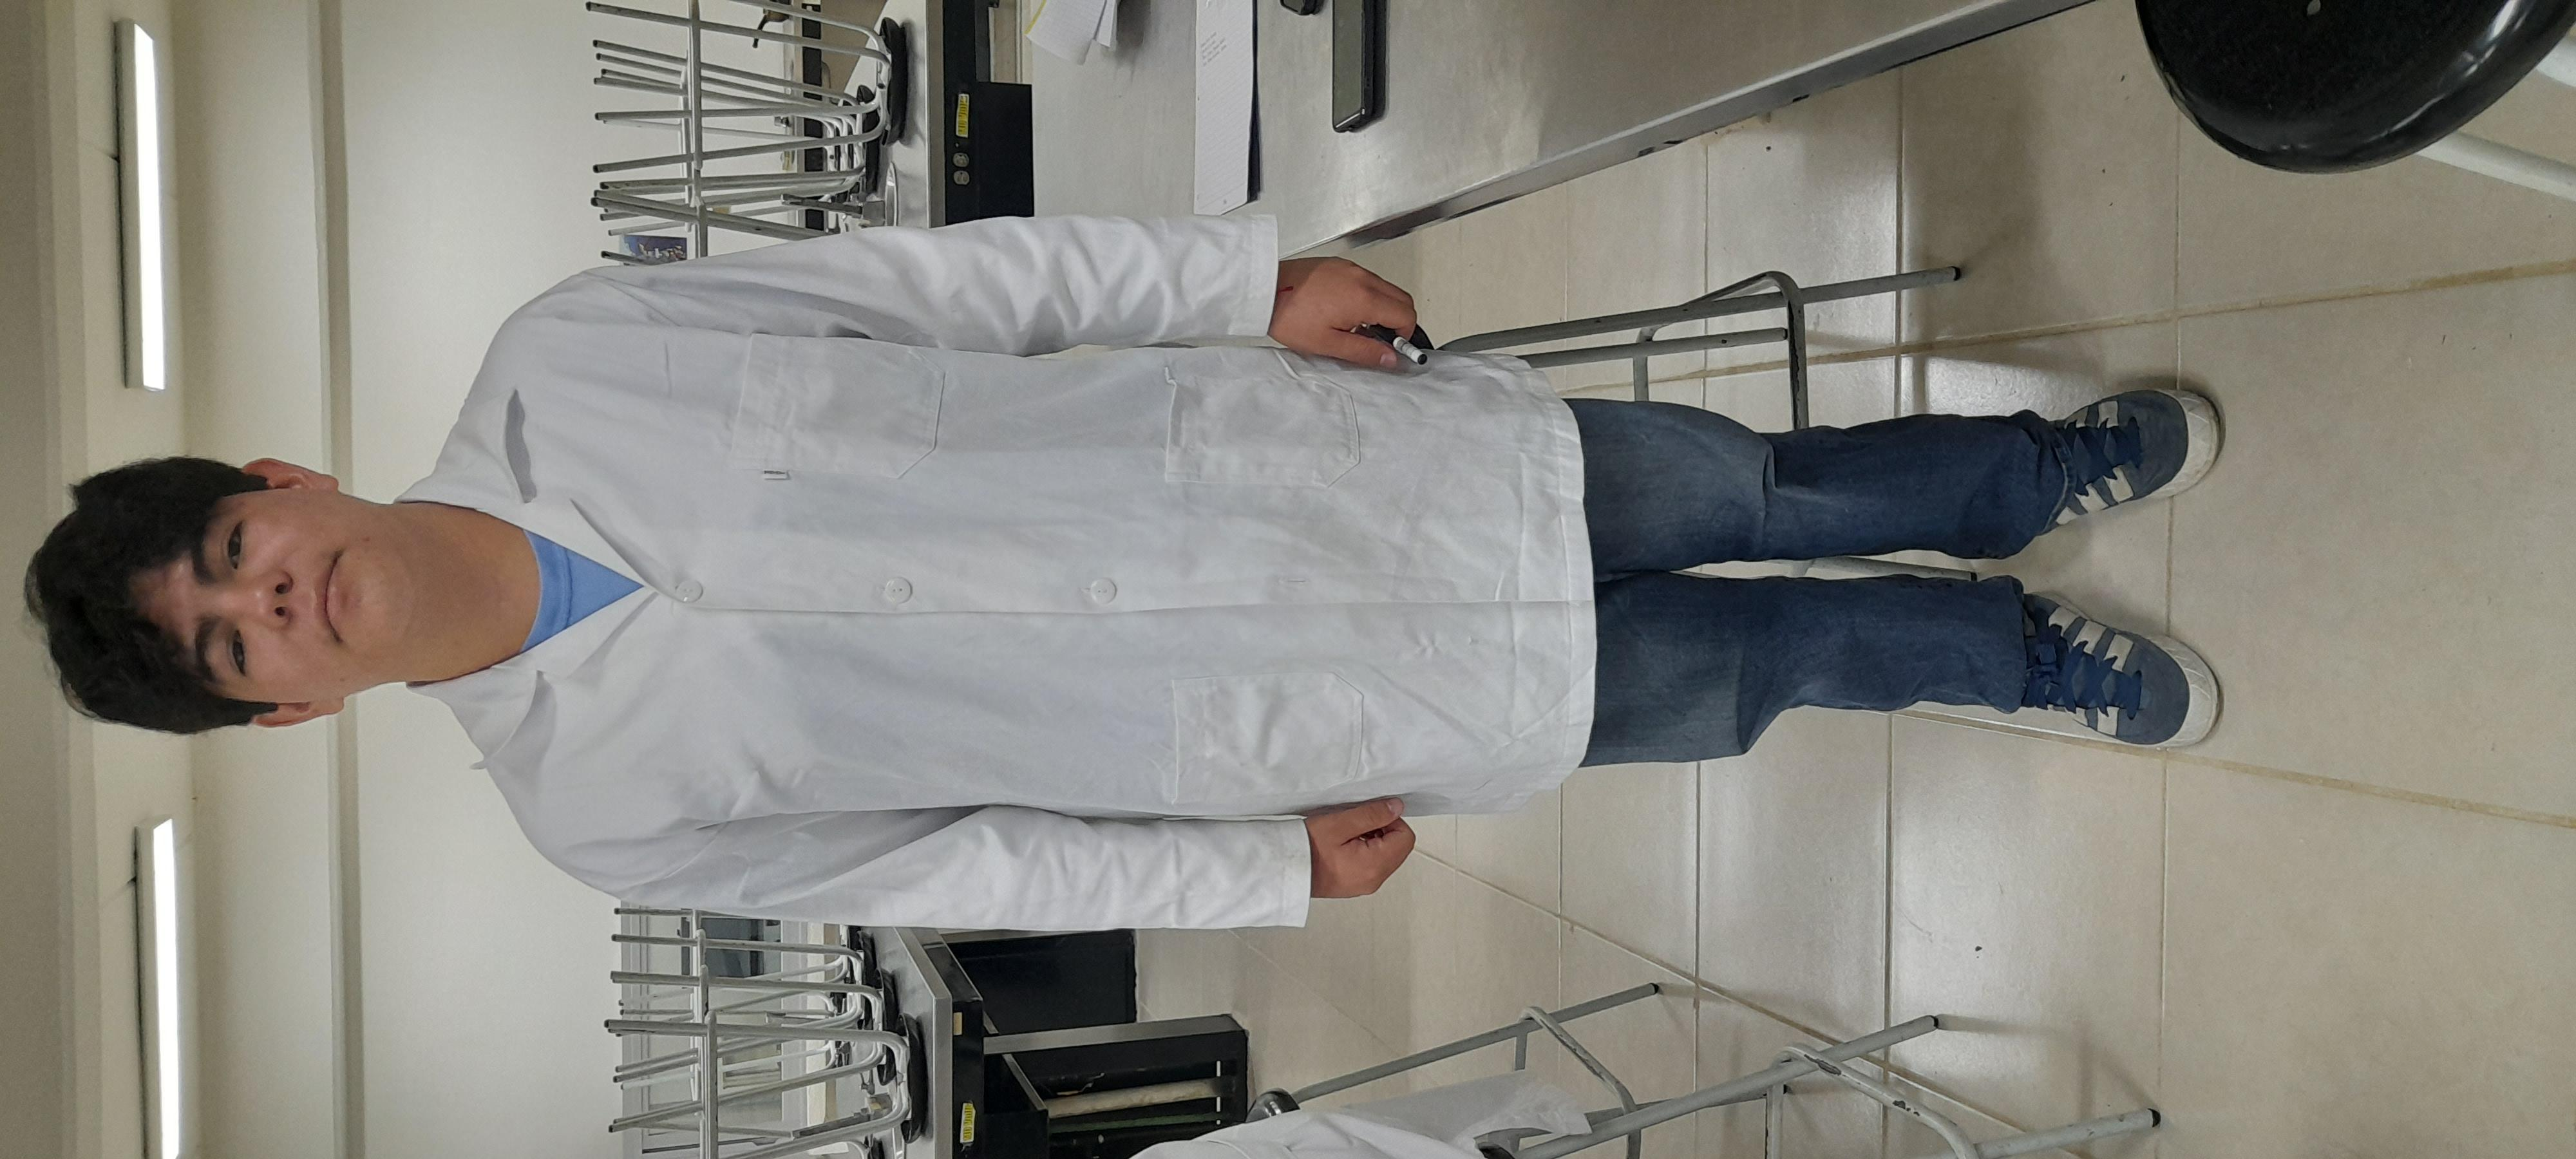Bata-Correcta: (511, 11, 2093, 1000)
